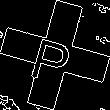P_N: (30, 26, 80, 84)
